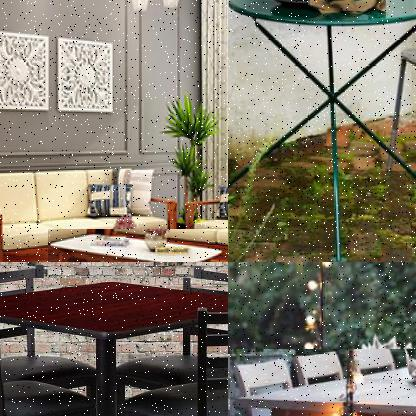table: (228, 0, 415, 261), (0, 278, 227, 415), (230, 349, 415, 415), (48, 228, 227, 261)
